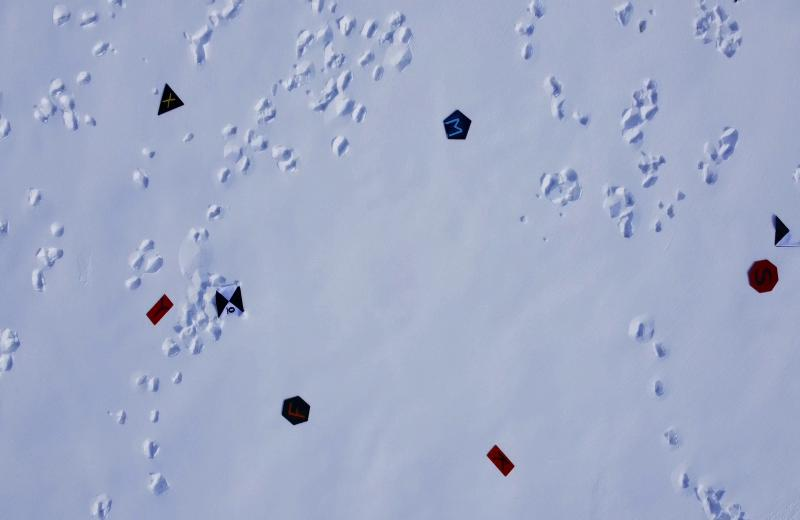Hexagon: (278, 394, 313, 428)
Octagon: (746, 255, 782, 295)
Pentagon: (442, 108, 476, 144)
Rectangle: (483, 443, 517, 478), (144, 291, 174, 327)
Triangle: (154, 80, 184, 122)
